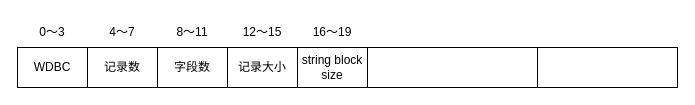
Some shapes in this 695 by 105 pixel diagram are drawn without their labels. Each missing label, with the centre of its shape:
"record block" goes at [452,67].
"可变长string block" goes at [607,67].
